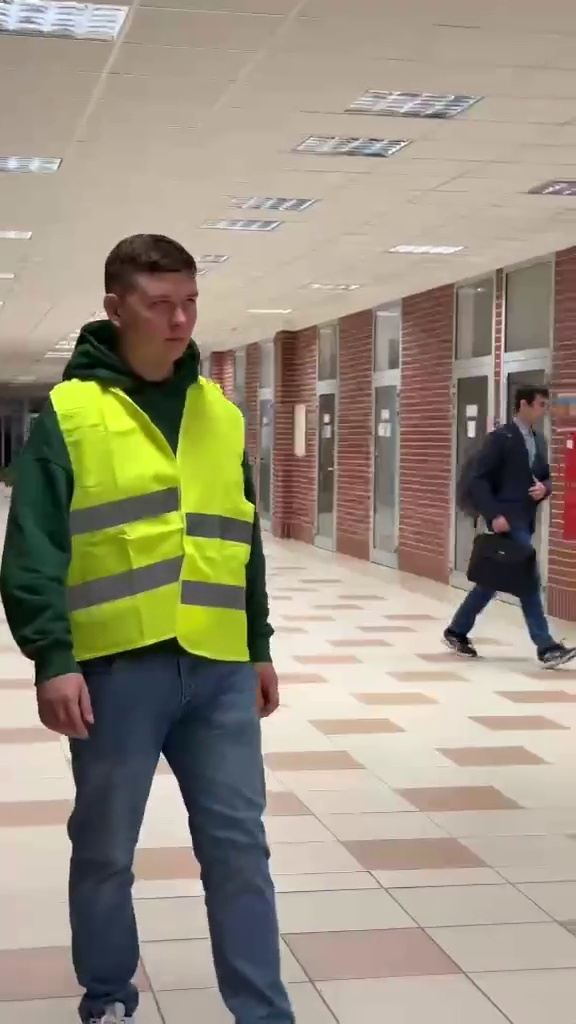no vest: (450, 376, 573, 667)
vest: (3, 239, 311, 1001)
